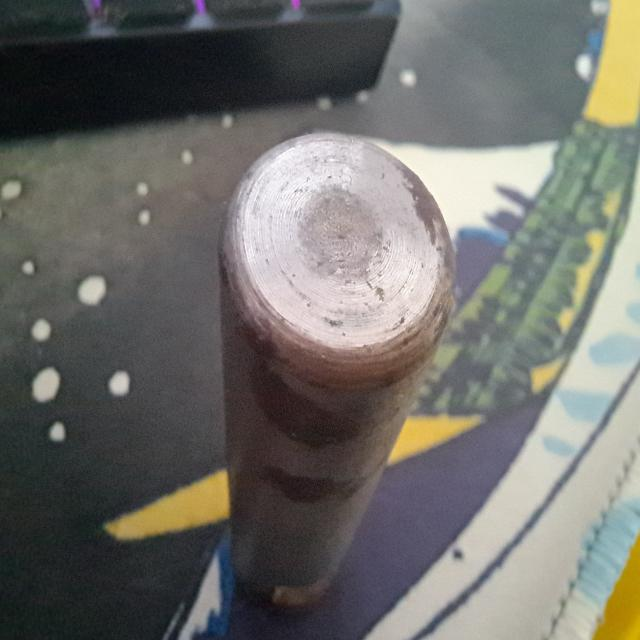planson: (221, 132, 455, 614)
